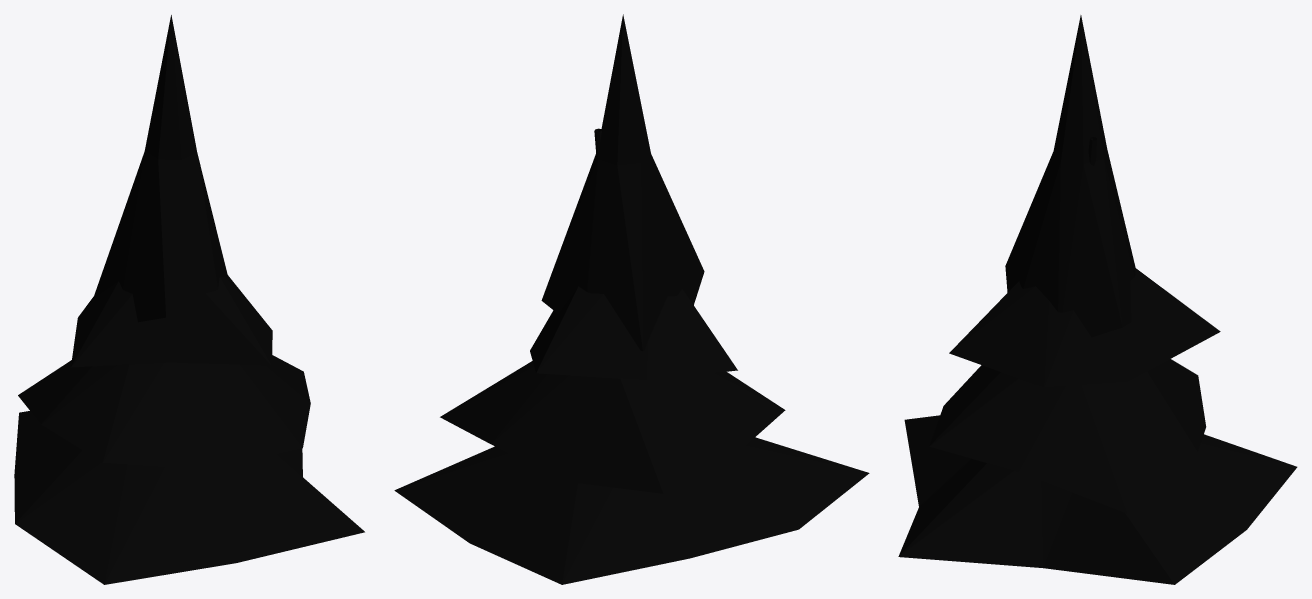
The model's file is SM_pine_small.fbx.
The picture shows the model from 3 angles, left to right: view 1: azimuth 30°, elevation 25°; view 2: azimuth 150°, elevation 25°; view 3: azimuth 270°, elevation 25°; orthographic projection. The views are drawn at different scales.
Parts seen in each view (by area): view 1: pine_small_crown; view 2: pine_small_crown; view 3: pine_small_crown.
Part boxes in pixels (bbox=[...]): pine_small_crown: bbox=[14, 15, 364, 584]; pine_small_crown: bbox=[394, 14, 869, 584]; pine_small_crown: bbox=[898, 15, 1297, 584].
Bounding box in the file's own units: 3.16 × 4.61 × 3.15.
